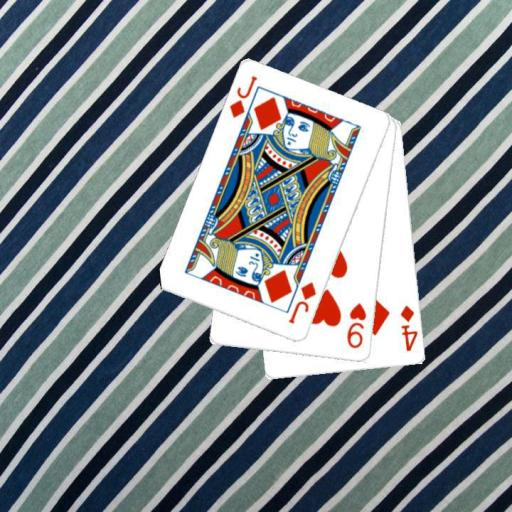4D: (398, 303, 420, 353)
9H: (345, 300, 369, 351)
JD: (285, 279, 318, 326), (226, 73, 259, 120)
